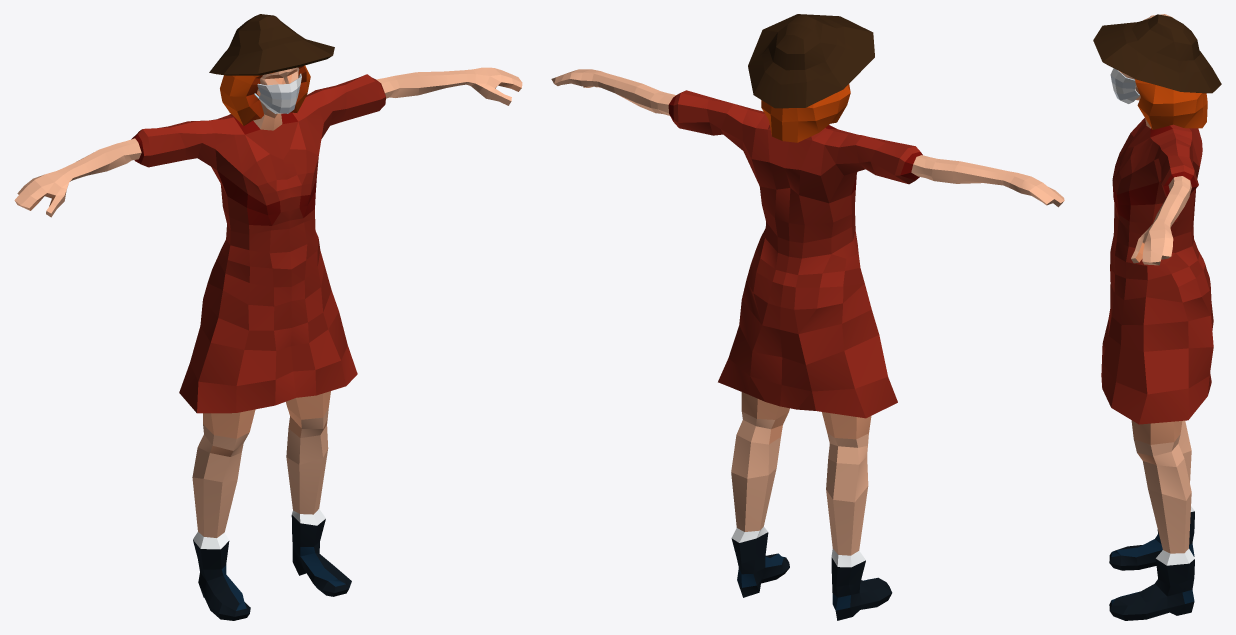
Rendered from casual_Female_H-model.obj.
3 views of the same model, side by side, from view 1: azimuth 30°, elevation 25°; view 2: azimuth 150°, elevation 25°; view 3: azimuth 270°, elevation 25° (orthographic).
Visible parts, largest first — view 1: casual_Female_H, acc_brown_hat, acc_mask_white; view 2: casual_Female_H, acc_brown_hat; view 3: casual_Female_H, acc_brown_hat, acc_mask_white.
Boxes of the visible parts, x1=… form: casual_Female_H: x1=14, y1=65, x2=522, y2=620; acc_brown_hat: x1=209, y1=14, x2=334, y2=75; acc_mask_white: x1=254, y1=69, x2=301, y2=113; casual_Female_H: x1=551, y1=69, x2=1064, y2=620; acc_brown_hat: x1=748, y1=14, x2=874, y2=108; casual_Female_H: x1=1101, y1=14, x2=1213, y2=620; acc_brown_hat: x1=1093, y1=14, x2=1221, y2=93; acc_mask_white: x1=1110, y1=68, x2=1140, y2=103.
Size of the model in its own units: 154 by 168 by 34.15.
